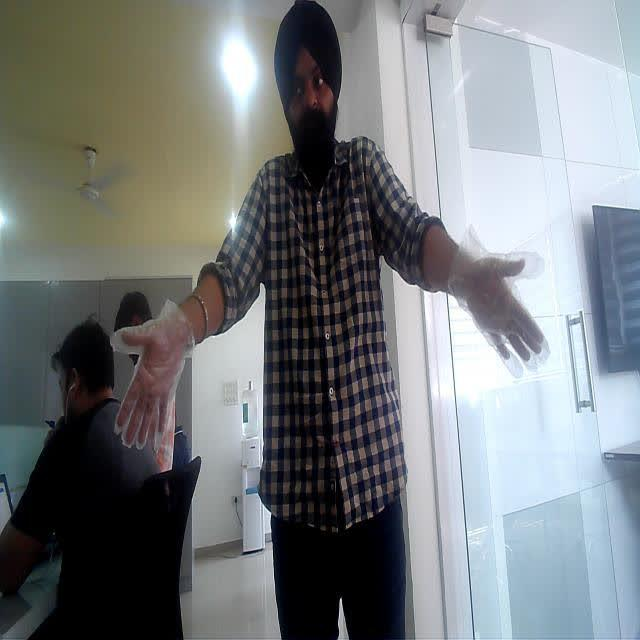with_gloves: (447, 237, 550, 370), (99, 310, 168, 442)
